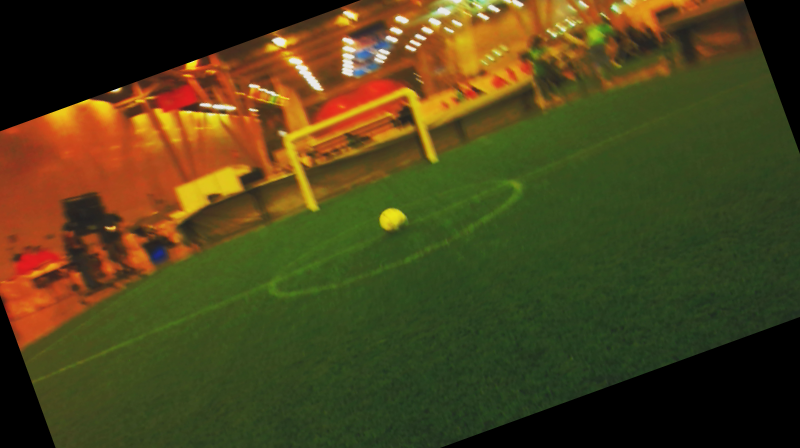post: (301, 195, 323, 222), (422, 149, 444, 171)
